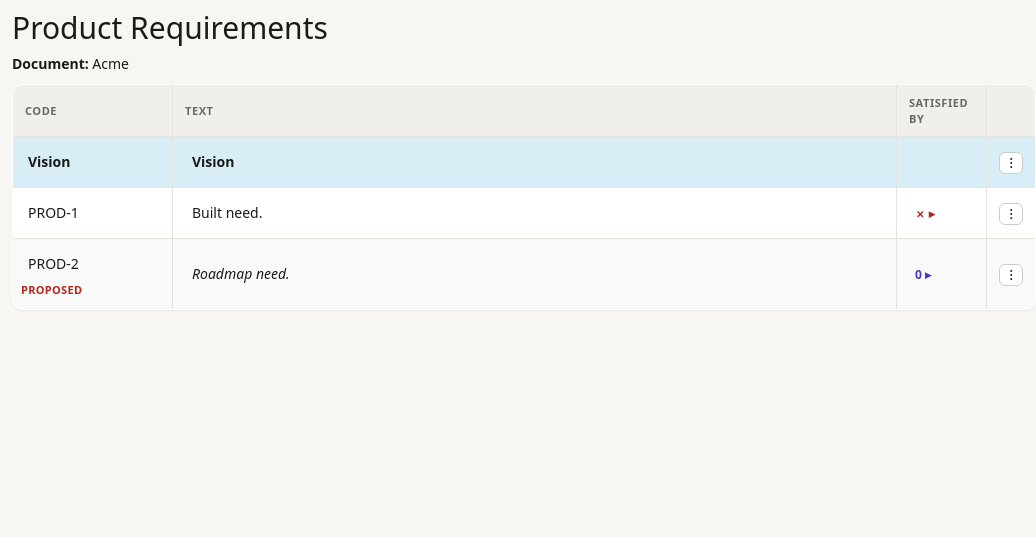
Test case: PrdTable › offers row actions (add/move/delete/view info) via the hamburger
What coordinates should you click on to do the following:
click the button named "Row actions"
I would click on:
 (1011, 214)
Its box is [999,202,1023,224].
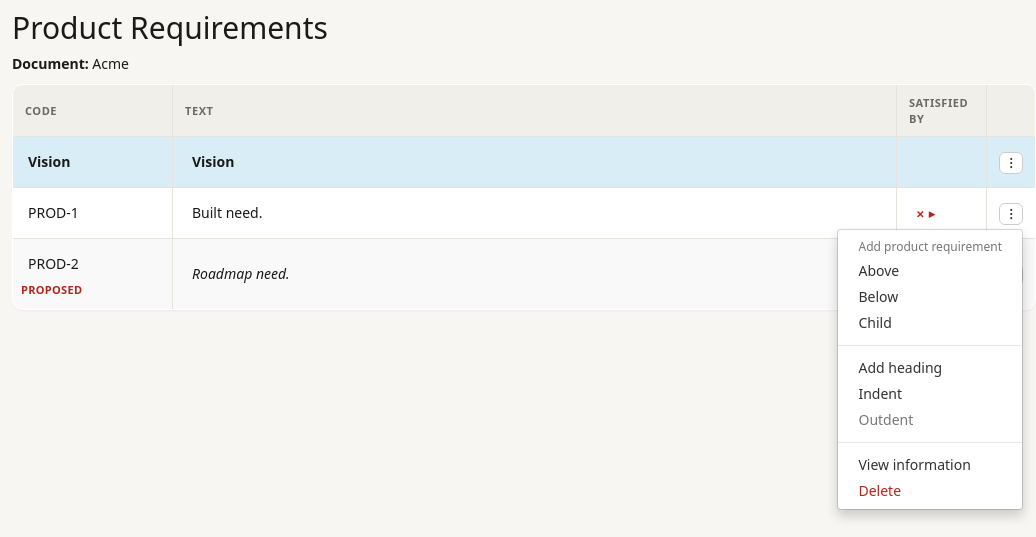
Result: the link "View information" is shown at [858,455,971,474]
Result: the link "Above" is shown at [858,261,899,280]
